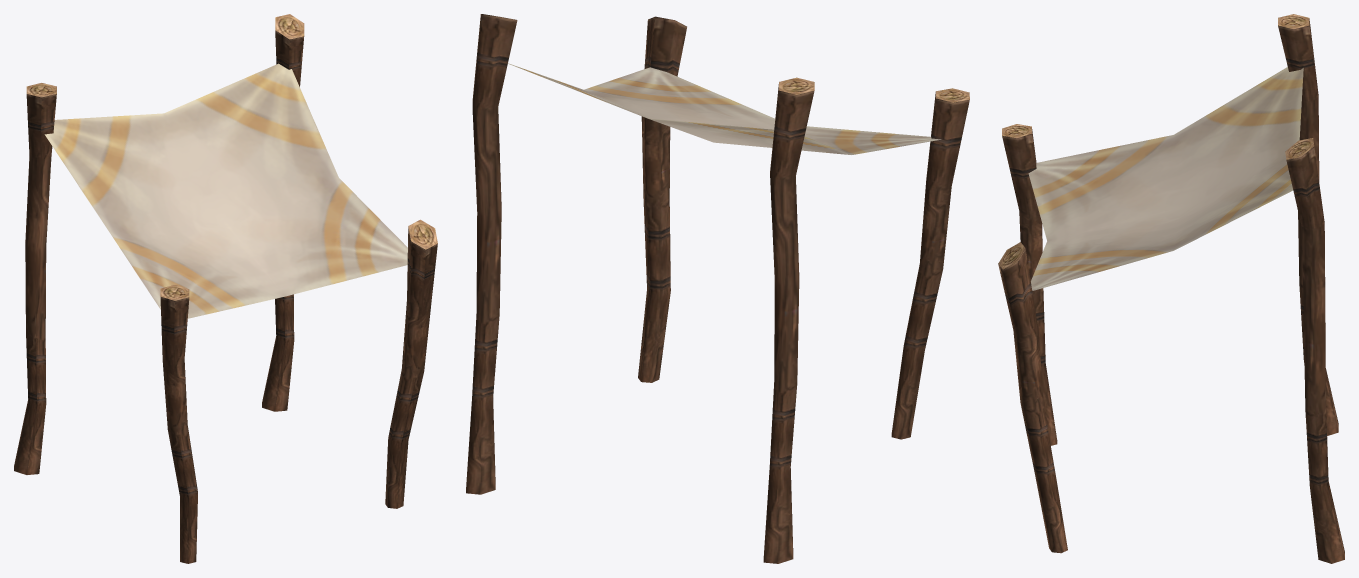
The model's file is Battle04_Market_05.FBX.
The picture shows the model from 3 angles, left to right: view 1: azimuth 30°, elevation 25°; view 2: azimuth 150°, elevation 25°; view 3: azimuth 270°, elevation 25°; orthographic projection. The views are drawn at different scales.
Parts seen in each view (by area): view 1: Battle04_Market_05; view 2: Battle04_Market_05; view 3: Battle04_Market_05.
Part boxes in pixels (<box>): Battle04_Market_05: <box>14,14,437,563</box>; Battle04_Market_05: <box>466,14,969,563</box>; Battle04_Market_05: <box>998,14,1344,563</box>.
Size of the model in its own units: 3.38 by 4.57 by 3.46.
